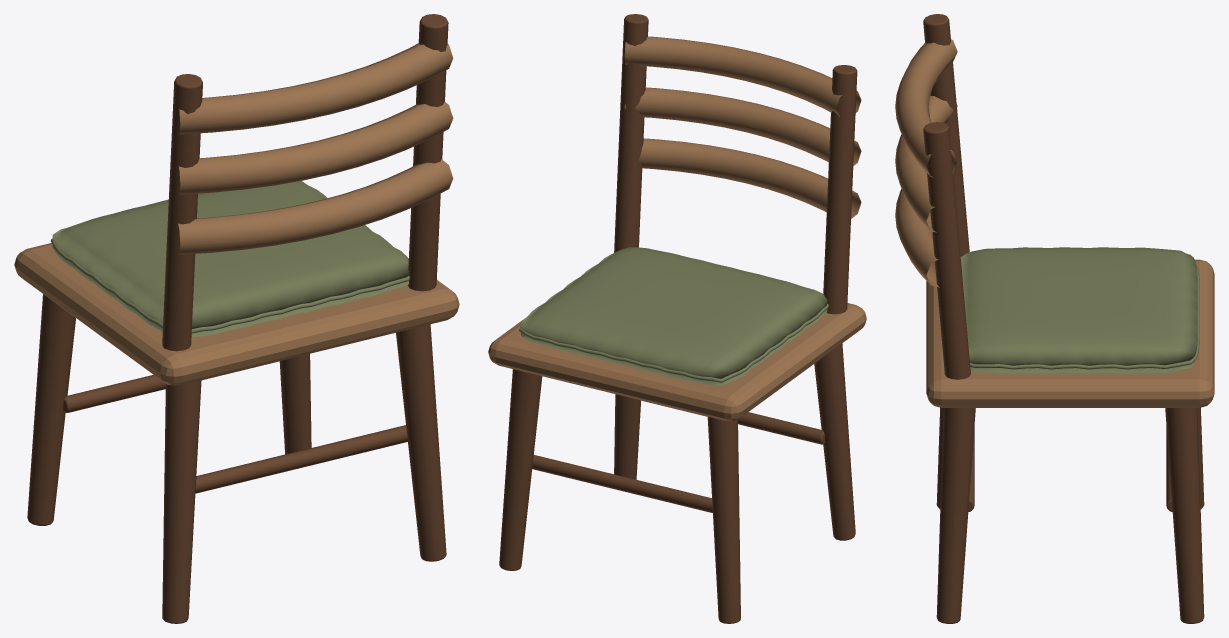
The model's file is dining-chair.glb.
3 renders of one model, left to right at view 1: azimuth 30°, elevation 25°; view 2: azimuth 150°, elevation 25°; view 3: azimuth 270°, elevation 25°, orthographic. The views are drawn at different scales.
Parts seen in each view (by area): view 1: dining-chair__wood_oak, dining-chair__wood_walnut, dining-chair__fabric_sage; view 2: dining-chair__wood_walnut, dining-chair__wood_oak, dining-chair__fabric_sage; view 3: dining-chair__fabric_sage, dining-chair__wood_walnut, dining-chair__wood_oak.
Part boxes in pixels (left/top/right/bottom): dining-chair__wood_oak: left=14, top=43, right=459, bottom=385; dining-chair__wood_walnut: left=27, top=14, right=448, bottom=623; dining-chair__fabric_sage: left=50, top=181, right=409, bottom=337; dining-chair__wood_walnut: left=499, top=14, right=857, bottom=623; dining-chair__wood_oak: left=488, top=36, right=866, bottom=421; dining-chair__fabric_sage: left=519, top=247, right=828, bottom=385; dining-chair__fabric_sage: left=960, top=247, right=1199, bottom=373; dining-chair__wood_walnut: left=923, top=14, right=1204, bottom=623; dining-chair__wood_oak: left=895, top=39, right=1214, bottom=407.
Bounding box in the file's own units: 0.57 × 0.998 × 0.587.
